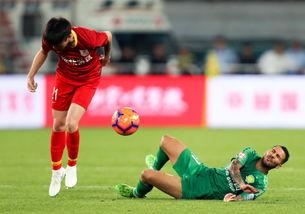bending: (26, 14, 114, 198)
down: (110, 126, 294, 206)
